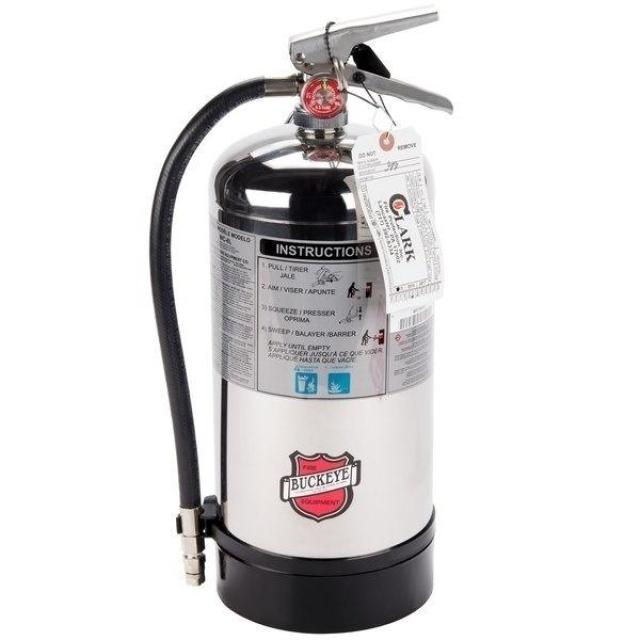fire_extinguisher: (144, 7, 458, 637)
